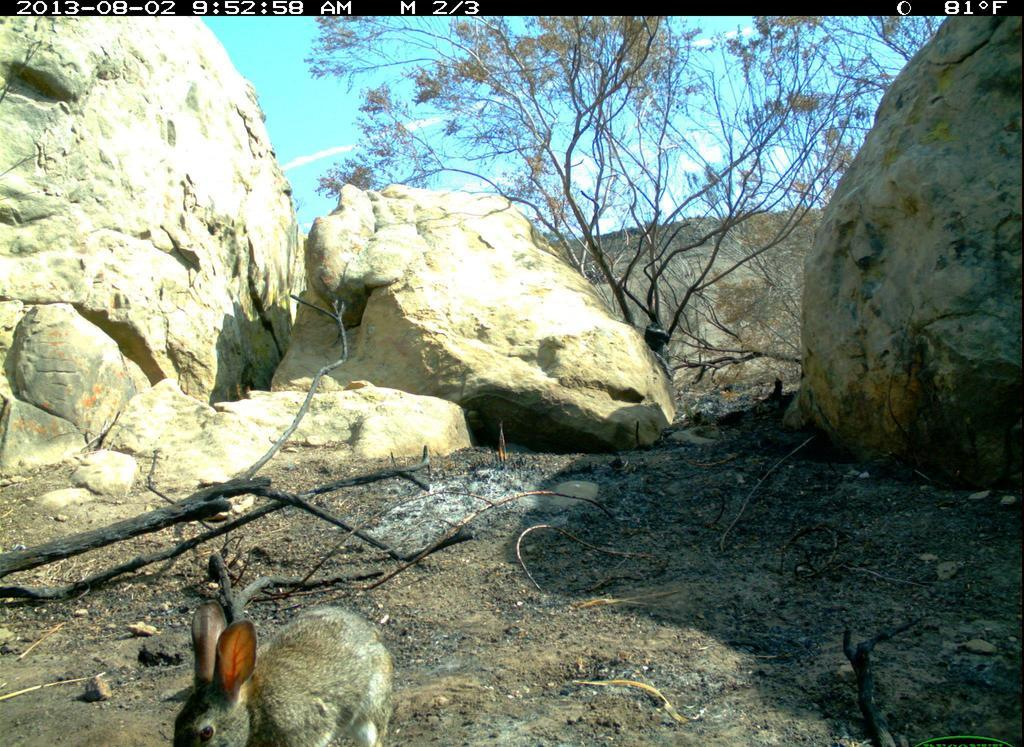rabbit: (140, 580, 442, 745)
